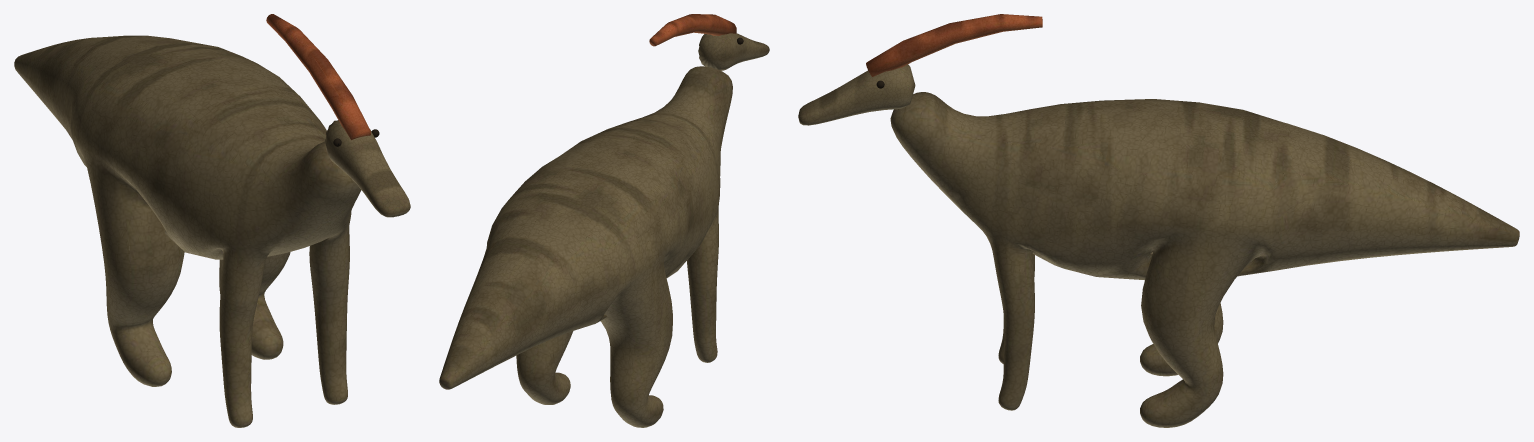
The model's file is parasaurolophus.glb.
The picture shows the model from 3 angles, left to right: view 1: azimuth 30°, elevation 25°; view 2: azimuth 150°, elevation 25°; view 3: azimuth 270°, elevation 25°; orthographic projection. The views are drawn at different scales.
Parts seen in each view (by area): view 1: parasaurolophus; view 2: parasaurolophus; view 3: parasaurolophus.
Part boxes in pixels (bbox=[...]): parasaurolophus: bbox=[14, 14, 410, 427]; parasaurolophus: bbox=[439, 14, 769, 427]; parasaurolophus: bbox=[798, 14, 1519, 427].
Bounding box in the file's own units: 2.21 × 4.73 × 8.02.
5 materials, 3 textured.
